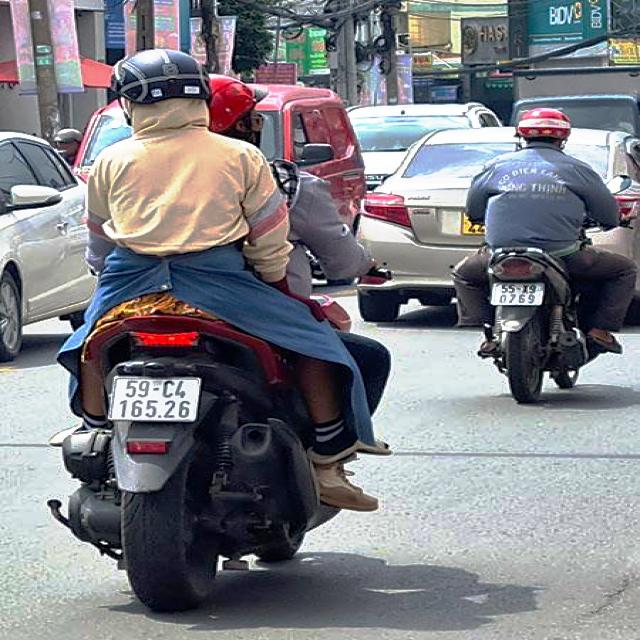license_plate: (110, 374, 203, 424)
